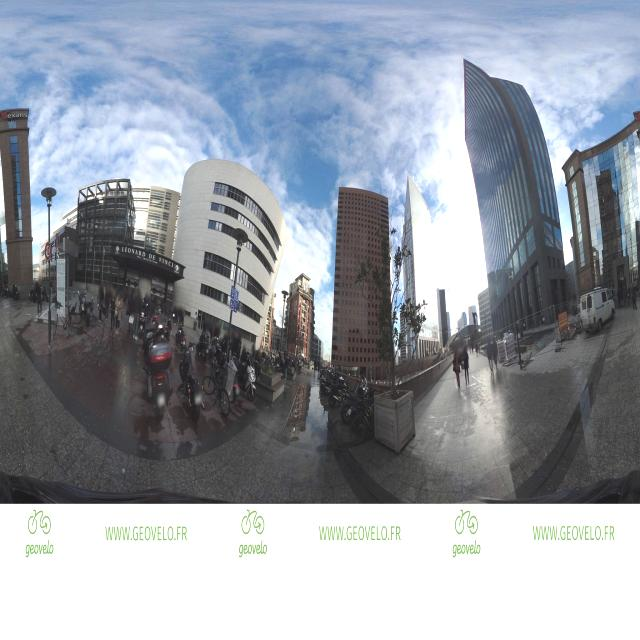bike: (143, 329, 176, 423), (203, 349, 232, 412), (182, 344, 204, 423), (51, 300, 77, 342), (236, 353, 258, 401), (342, 374, 362, 426), (330, 376, 353, 412), (76, 289, 95, 326), (141, 304, 149, 335)
